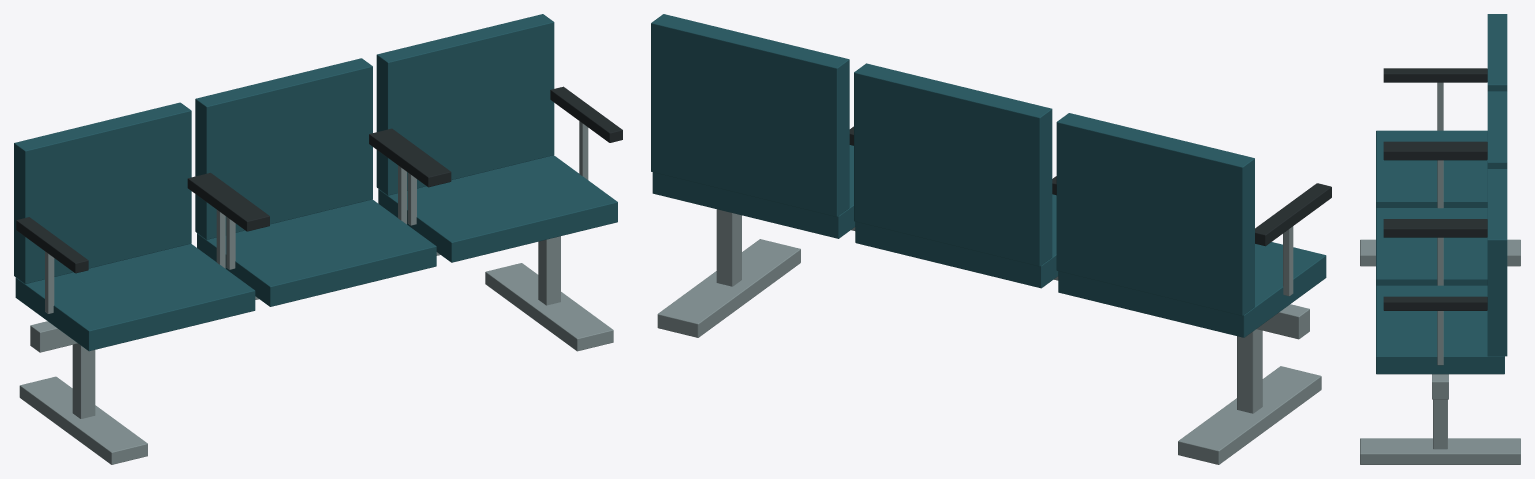
The model's file is public-service-waiting-bench.glb.
The picture shows the model from 3 angles, left to right: view 1: azimuth 30°, elevation 25°; view 2: azimuth 150°, elevation 25°; view 3: azimuth 270°, elevation 25°; orthographic projection. The views are drawn at different scales.
Parts seen in each view (by area): view 1: Backrest_0, Backrest_2, Backrest_1, Seat_0, Seat_1, Seat_2, Foot.001, Foot, Leg, Armrest.001, Armrest, Leg.001 (+5 smaller); view 2: Backrest_1, Backrest_0, Backrest_2, Seat_0, Foot, Foot.001, Seat_2, Seat_1, Leg, Leg.001, Armrest.001, Support_Beam (+1 smaller); view 3: Seat_2, Seat_0, Seat_1, Foot.001, Backrest_2, Backrest_0, Backrest_1, Armrest.001, Armrest, Armrest.005, Armrest.003, Foot (+8 smaller).
Boxes of the visible parts, x1,y1,x2,y2 form: Backrest_0: (14,102,191,283); Backrest_2: (376,14,554,195); Backrest_1: (195,58,372,239); Seat_0: (15,244,255,351); Seat_1: (197,199,436,306); Seat_2: (378,155,617,262); Foot.001: (485,263,613,351); Foot: (19,376,147,464); Leg: (72,343,95,418); Armrest.001: (16,217,88,273); Armrest: (550,86,622,142); Leg.001: (538,236,560,305); Backrest_1: (854,63,1052,266); Backrest_0: (1056,113,1254,315); Backrest_2: (651,14,849,216); Seat_0: (1058,242,1326,337); Foot: (1178,366,1321,464); Foot.001: (657,239,800,337); Seat_2: (652,145,855,238); Seat_1: (855,194,1058,288); Leg: (1237,329,1262,413); Leg.001: (716,209,741,286); Armrest.001: (1255,183,1331,246); Support_Beam: (851,227,1309,339); Seat_2: (1376,285,1504,374); Seat_0: (1376,130,1487,207); Seat_1: (1376,208,1487,285); Foot.001: (1360,438,1520,464); Backrest_2: (1487,169,1507,356); Backrest_0: (1487,14,1507,91); Backrest_1: (1487,91,1507,168); Armrest.001: (1383,68,1487,82); Armrest: (1383,296,1487,310); Armrest.005: (1383,223,1487,237); Armrest.003: (1383,146,1487,160); Foot: (1360,239,1520,266).
Bounding box in the file's own units: 2.3 × 1.03 × 0.65.
